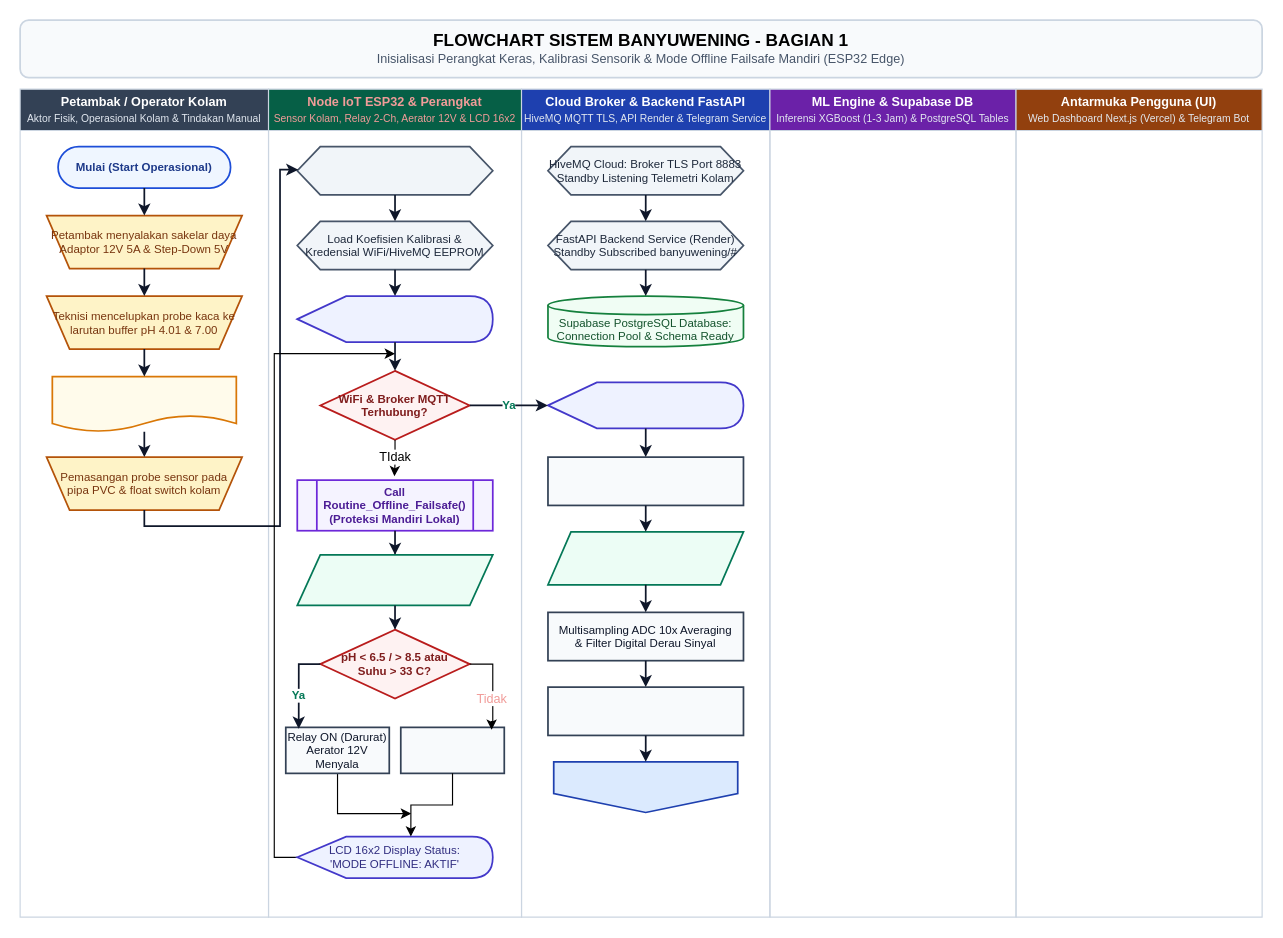
Some shapes in this 1283 by 938 pixel diagram are drawn without their labels. Each missing label, with the box of its shape:
[KE HALAMAN 2: TRANSMISI CLOUD]: (552, 760, 738, 813)
Akuisisi Sensor: pH, Suhu DS18B20, TDS Meter, Turbiditas & Float Switch: (547, 530, 744, 585)
Baca Mandiri Sensor Analog pH, Suhu, TDS, Turbiditas, Float: (296, 553, 493, 606)
Inisialisasi GPIO ESP32, ADC 12-bit, Serial 115200 & Timer 30s: (296, 145, 493, 195)
Konversi Nilai Fisik: pH, Suhu C, TDS ppm, Turbiditas NTU, Level: (547, 686, 744, 736)
LCD 16x2 Display: 'ONLINE: IP OK - MQTT CONNECTED': (547, 381, 744, 429)
LCD 16x2 I2C Display: 'Booting BanyuWening... WiFi': (296, 295, 493, 342)
Lembar Catatan Log Kalibrasi Sensor pH (Formulir Fisik): (51, 375, 237, 432)
Relay OFF (Normal) Aerator Standby: (399, 726, 505, 774)
Timer Interrupt ESP32: Pemicu Sampling Tiap 30 Detik: (547, 456, 744, 506)
